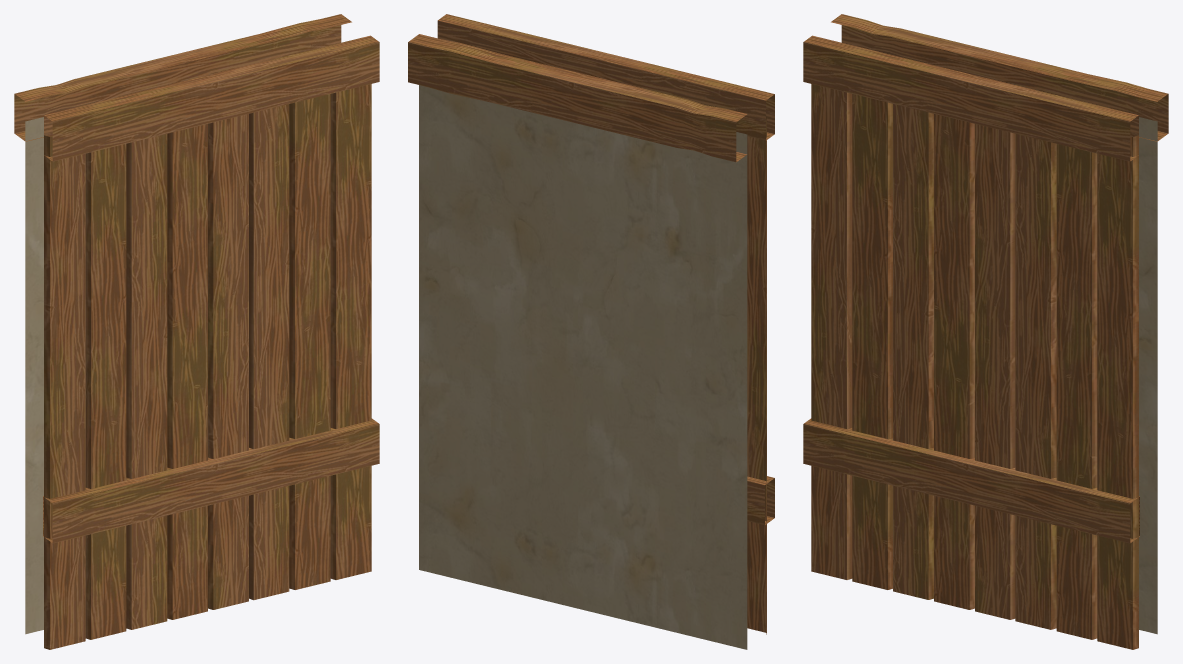
File: Wall_WoodWear_Straight.gltf
The picture shows the model from 3 angles, left to right: view 1: azimuth 30°, elevation 25°; view 2: azimuth 150°, elevation 25°; view 3: azimuth 330°, elevation 25°; orthographic projection.
Parts seen in each view (by area): view 1: Wall_WoodWear_Straight; view 2: Wall_WoodWear_Straight; view 3: Wall_WoodWear_Straight.
Part boxes in pixels (x1,y1,x2,y2): Wall_WoodWear_Straight: (14, 14, 379, 649); Wall_WoodWear_Straight: (408, 14, 774, 649); Wall_WoodWear_Straight: (803, 14, 1168, 649).
Size of the model in its own units: 2 by 3.12 by 0.4065.
3 materials, 3 textured.
